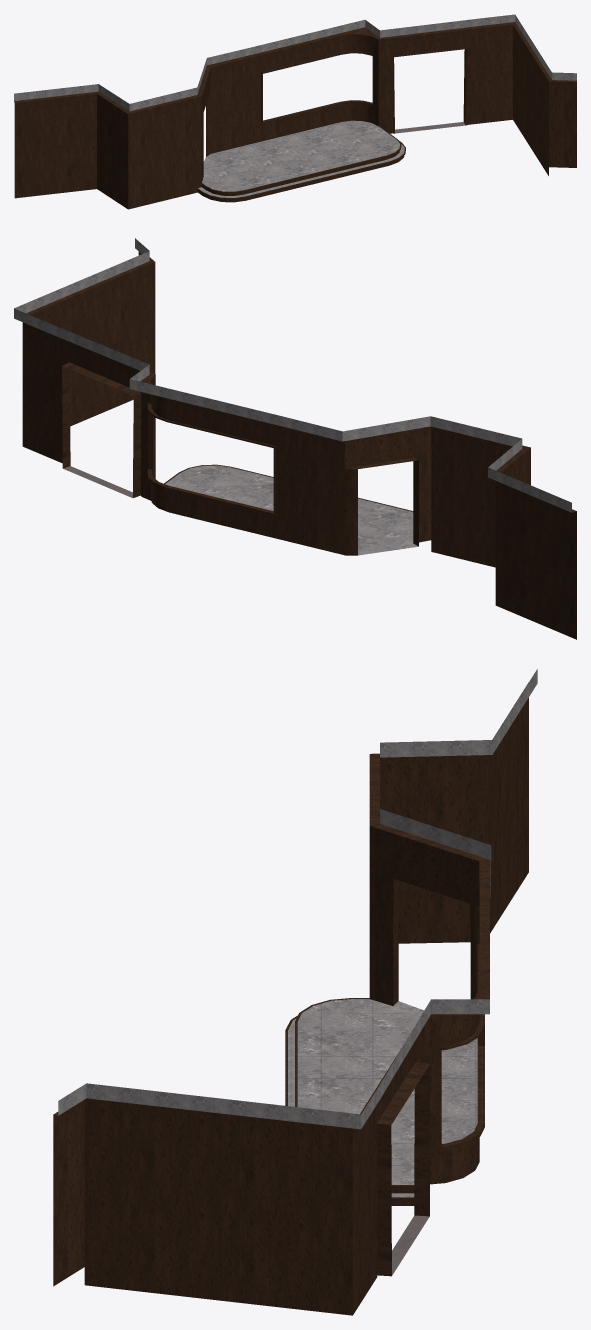
Rendered from stage-full-structure.glb.
The picture shows the model from 3 angles, top to bottom: view 1: azimuth 30°, elevation 25°; view 2: azimuth 150°, elevation 25°; view 3: azimuth 270°, elevation 25°; orthographic projection. The views are drawn at different scales.
Parts seen in each view (by area): view 1: Stage_Full_Structure; view 2: Stage_Full_Structure; view 3: Stage_Full_Structure.
Boxes of the visible parts, left/top/right/bottom form: Stage_Full_Structure: left=14, top=14, right=576, bottom=209; Stage_Full_Structure: left=14, top=238, right=576, bottom=639; Stage_Full_Structure: left=53, top=669, right=537, bottom=1315.
Bounding box in the file's own units: 26.95 × 5.77 × 12.33.
4 materials, 4 textured.
